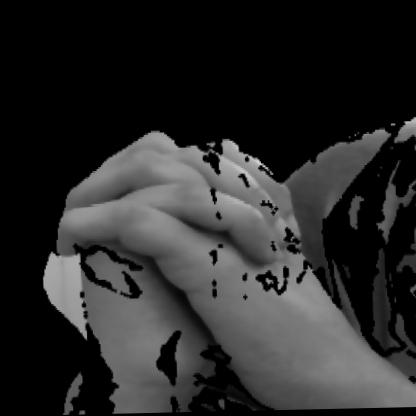prayer: (15, 127, 315, 410)
